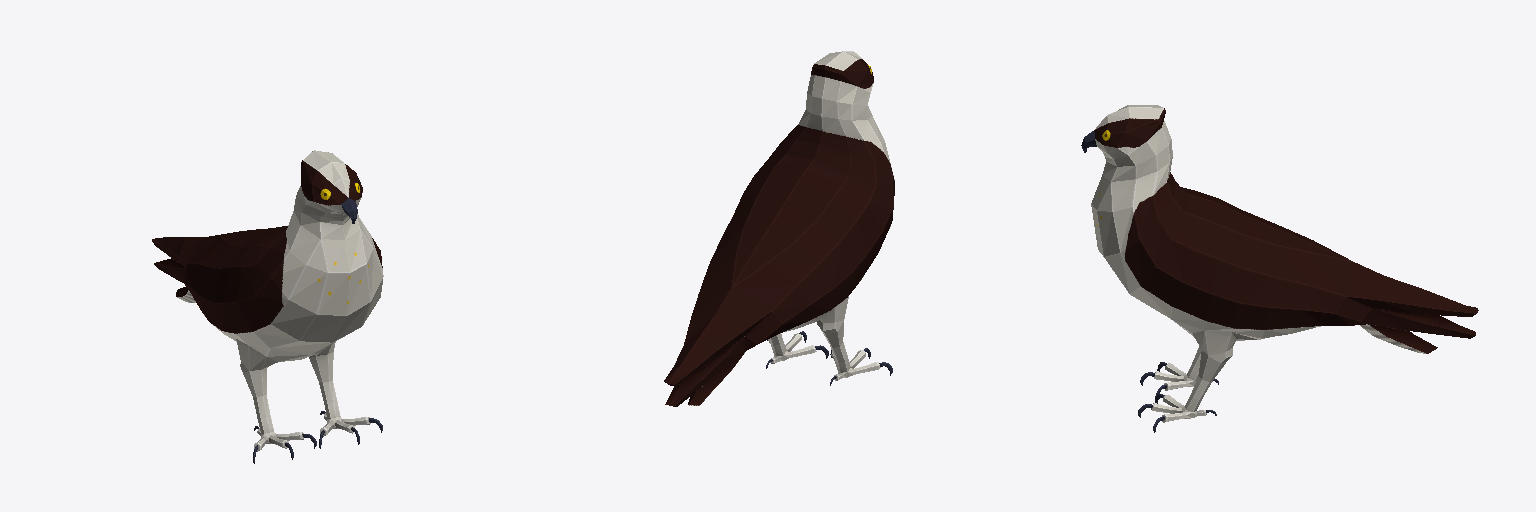
The picture shows the model from 3 angles: view 1: azimuth 30°, elevation 25°; view 2: azimuth 150°, elevation 25°; view 3: azimuth 270°, elevation 25°; orthographic projection.
Visible parts, largest first — view 1: Osprey_mesh; view 2: Osprey_mesh; view 3: Osprey_mesh.
Part boxes in pixels (left/top/right/bottom): Osprey_mesh: left=152, top=150, right=383, bottom=463; Osprey_mesh: left=664, top=51, right=894, bottom=406; Osprey_mesh: left=1081, top=105, right=1478, bottom=432.
Bounding box in the file's own units: 5.22 × 11.13 × 13.44.
Materials: 1 (1 with a texture image).